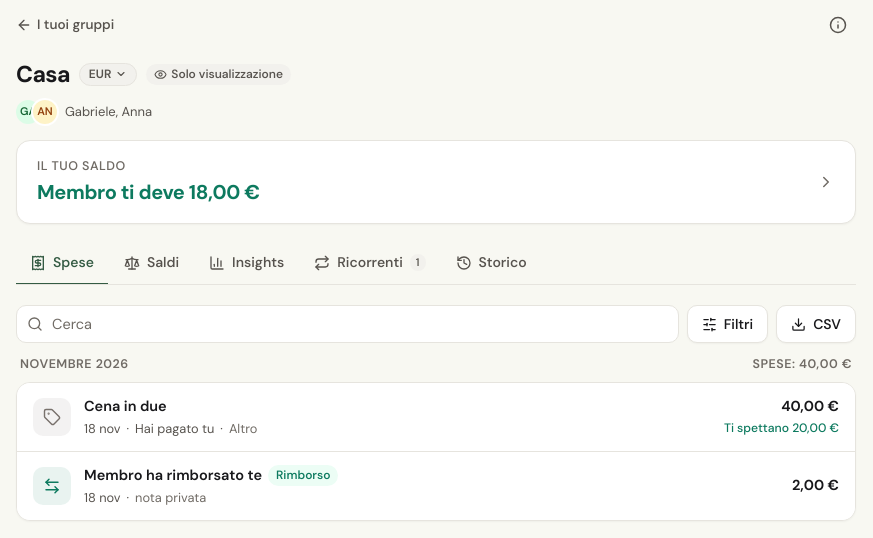
Test: nello Storico unifica nello stesso filtro ospite e account collegato tramite actorLinks
The image size is (873, 538).
Click the button "Storico": (491, 264) [442,242,541,285]
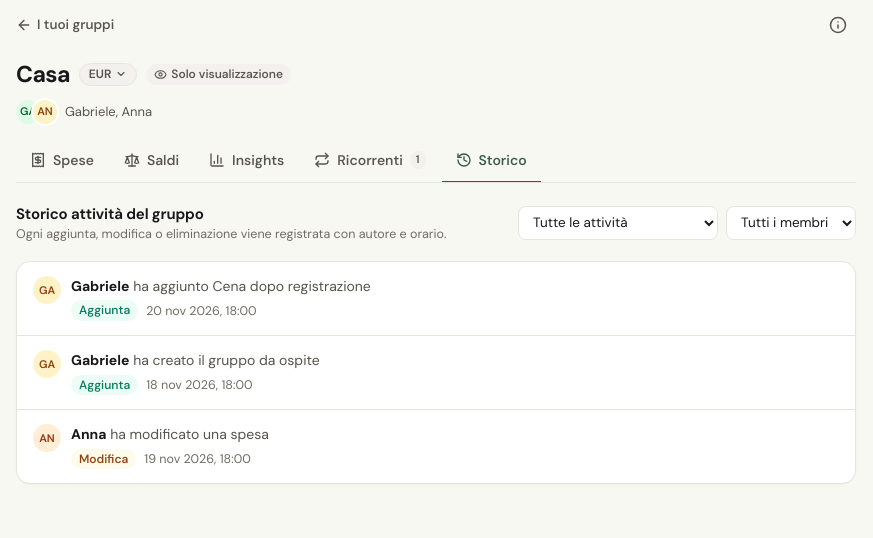
Select "Gabriele" in the dropdown named "Filtra storico per membro": (791, 223) [726,206,856,240]
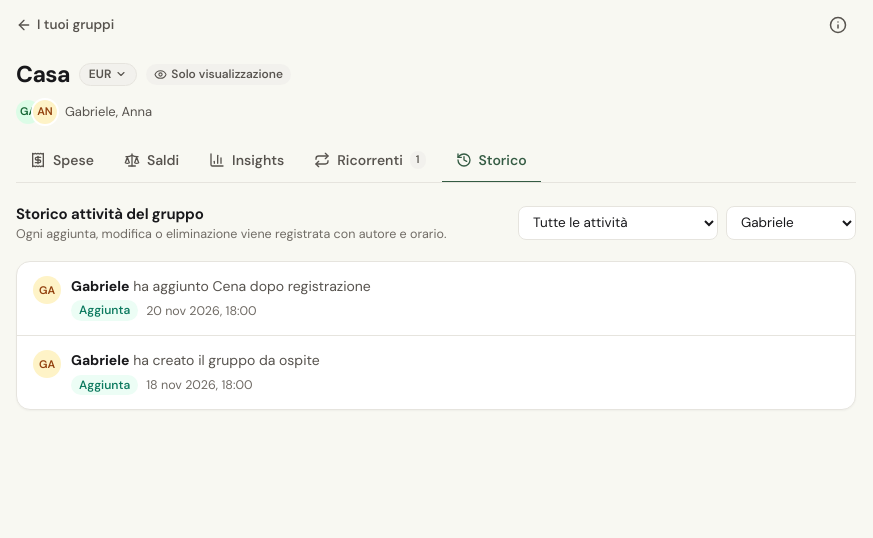
Expected: the text "ha aggiunto Cena dopo registrazione" is shown, [133,277,371,295]
Expected: the text "ha creato il gruppo da ospite" is shown, [133,351,320,369]
Expected: the text "modificato una spesa" is gone
